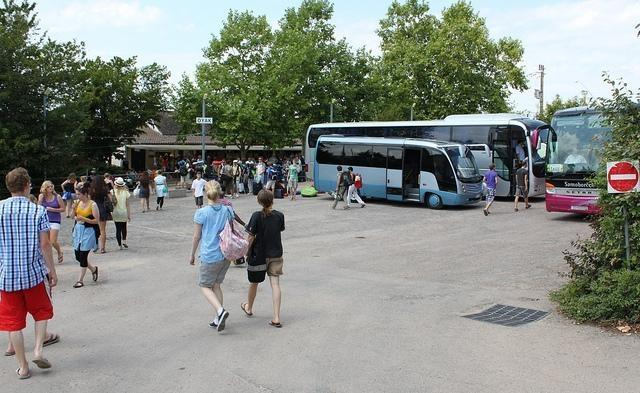bus: (306, 114, 549, 198), (315, 136, 483, 208), (531, 104, 612, 213)
